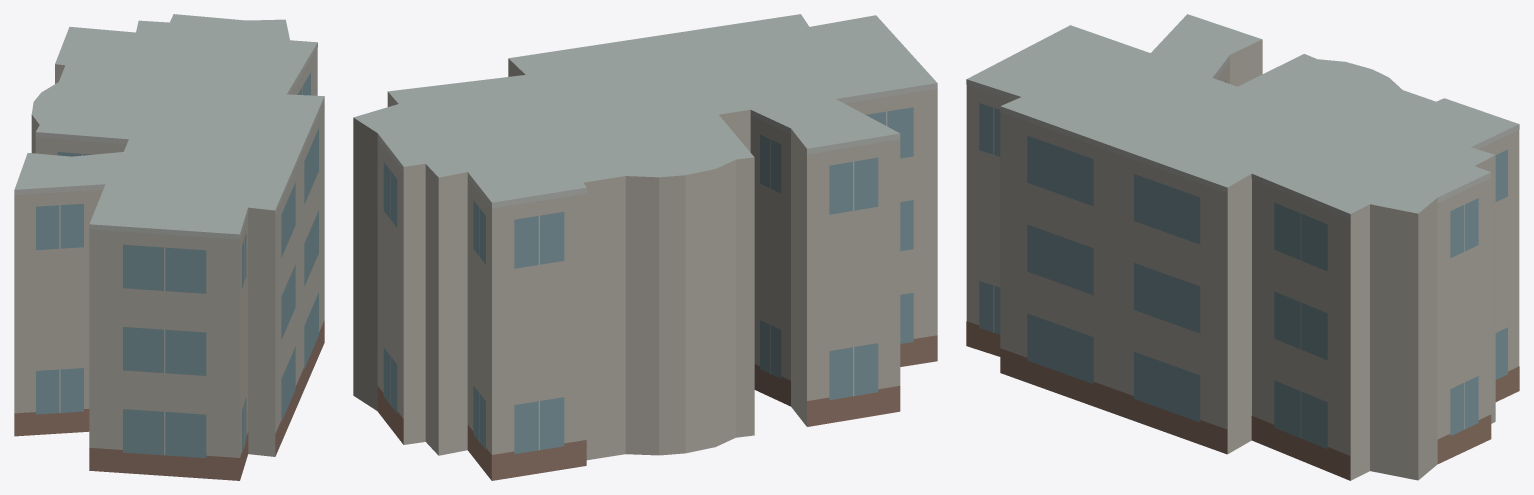
Rendered from survey-upis-32474827.glb.
3 views of the same model, side by side, from view 1: azimuth 30°, elevation 25°; view 2: azimuth 150°, elevation 25°; view 3: azimuth 270°, elevation 25° (orthographic). The views are drawn at different scales.
Visible parts, largest first — view 1: survey-upis-32474827.tmp; view 2: survey-upis-32474827.tmp; view 3: survey-upis-32474827.tmp.
Boxes of the visible parts, x1,y1,x2,y2 form: survey-upis-32474827.tmp: (14, 14, 324, 480); survey-upis-32474827.tmp: (353, 14, 937, 480); survey-upis-32474827.tmp: (966, 14, 1519, 480).
Size of the model in its own units: 18.94 by 11.77 by 22.13.
